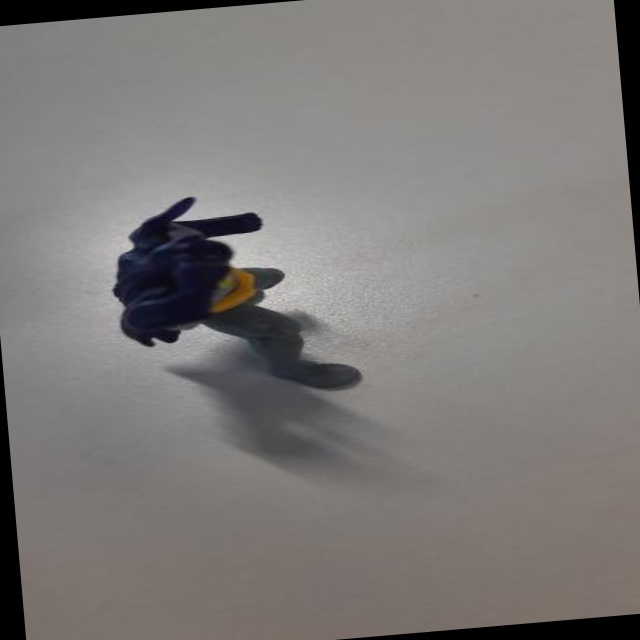Batman: (94, 177, 374, 410)
